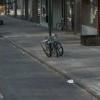Bicycle: (36, 31, 65, 60)
